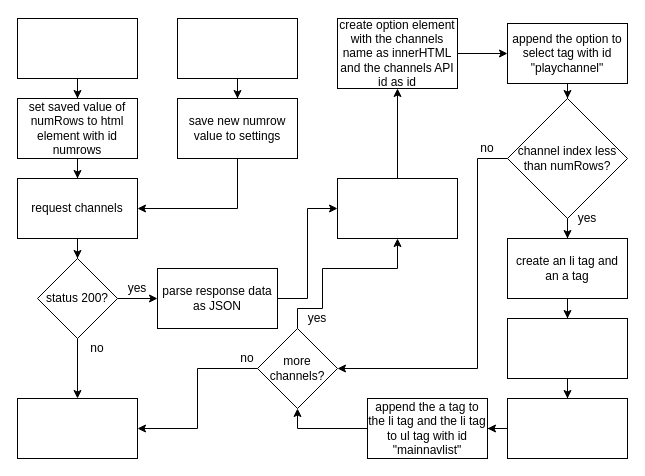
Image size: 645x476. Some labels were removed from this diagram. The box of each missing label's shape, as (x1, y1, x2, y2) in pixels:
add an event listener listening for click events that requests channel programs: (506, 398, 628, 458)
add channel name as innerHTML, title as taglien from channel to the a tag: (506, 318, 628, 378)
exit: (16, 398, 138, 458)
for every channel in response data: (336, 178, 458, 238)
on numrows change: (176, 18, 298, 78)
on page load: (16, 18, 138, 78)
